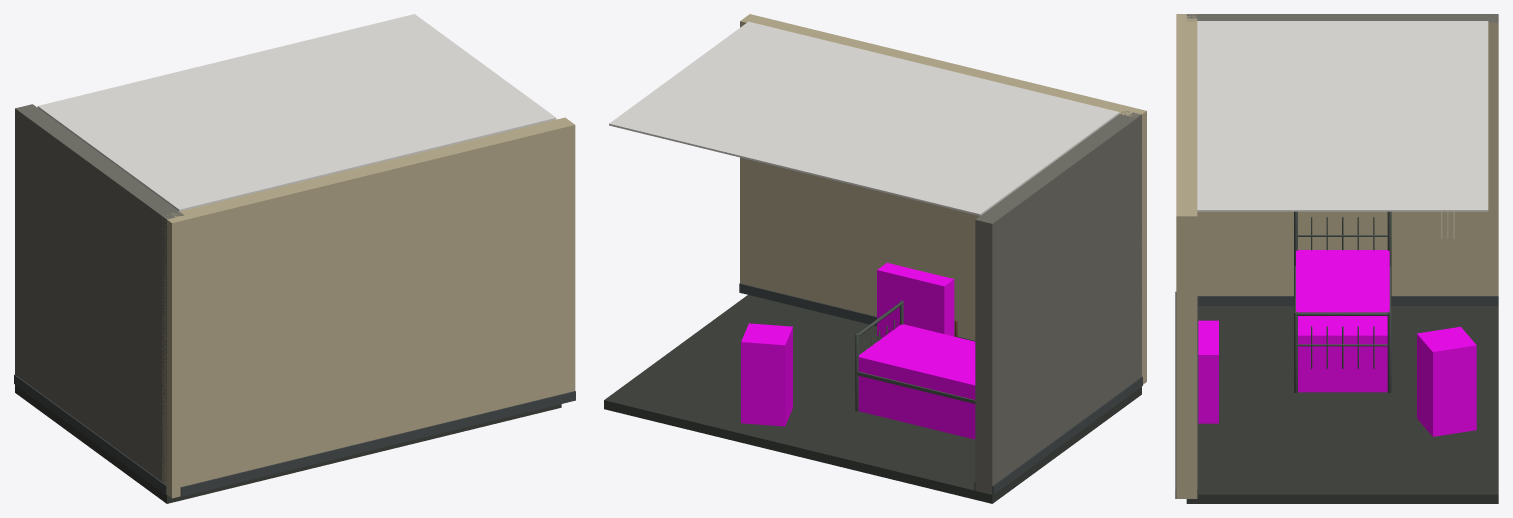
File: ENV_FormerPatientRoom1.glb
3 views of the same model, side by side, from view 1: azimuth 30°, elevation 25°; view 2: azimuth 150°, elevation 25°; view 3: azimuth 270°, elevation 25° (orthographic). The views are drawn at different scales.
Parts seen in each view (by area): view 1: ENV_FormerPatientRoom1_Architecture, ENV_FormerPatientRoom1_Ceiling, ENV_FormerPatientRoom1_Posts; view 2: ENV_FormerPatientRoom1_Architecture, ENV_FormerPatientRoom1_Ceiling, PROP_Bed_Iron_Historic_COL-colonly.001, PROP_Chair_Wood_Historic_COL-colonly.005, PROP_Radiator_Cast_Iron_COL-colonly.005, ENV_FormerPatientRoom1_Posts, PROP_Bed_Iron_Historic_Mesh.001; view 3: ENV_FormerPatientRoom1_Architecture, ENV_FormerPatientRoom1_Ceiling, PROP_Bed_Iron_Historic_COL-colonly.001, PROP_Chair_Wood_Historic_COL-colonly.005, PROP_Bed_Iron_Historic_Mesh.001, PROP_Radiator_Cast_Iron_COL-colonly.005.
Boxes of the visible parts, x1,y1,x2,y2 form: ENV_FormerPatientRoom1_Architecture: [14, 104, 575, 503]; ENV_FormerPatientRoom1_Ceiling: [37, 14, 556, 211]; ENV_FormerPatientRoom1_Posts: [162, 215, 189, 498]; ENV_FormerPatientRoom1_Architecture: [604, 14, 1142, 503]; ENV_FormerPatientRoom1_Ceiling: [609, 21, 1119, 215]; PROP_Bed_Iron_Historic_COL-colonly.001: [858, 324, 975, 439]; PROP_Chair_Wood_Historic_COL-colonly.005: [741, 323, 792, 426]; PROP_Radiator_Cast_Iron_COL-colonly.005: [877, 263, 954, 337]; ENV_FormerPatientRoom1_Posts: [1120, 107, 1146, 384]; PROP_Bed_Iron_Historic_Mesh.001: [855, 300, 975, 411]; ENV_FormerPatientRoom1_Architecture: [1175, 14, 1498, 503]; ENV_FormerPatientRoom1_Ceiling: [1197, 21, 1488, 211]; PROP_Bed_Iron_Historic_COL-colonly.001: [1296, 250, 1389, 392]; PROP_Chair_Wood_Historic_COL-colonly.005: [1417, 326, 1476, 436]; PROP_Bed_Iron_Historic_Mesh.001: [1294, 211, 1391, 392]; PROP_Radiator_Cast_Iron_COL-colonly.005: [1198, 320, 1218, 423].
Size of what is drawn, in the model's own units: 4.61 by 3.12 by 3.11.
